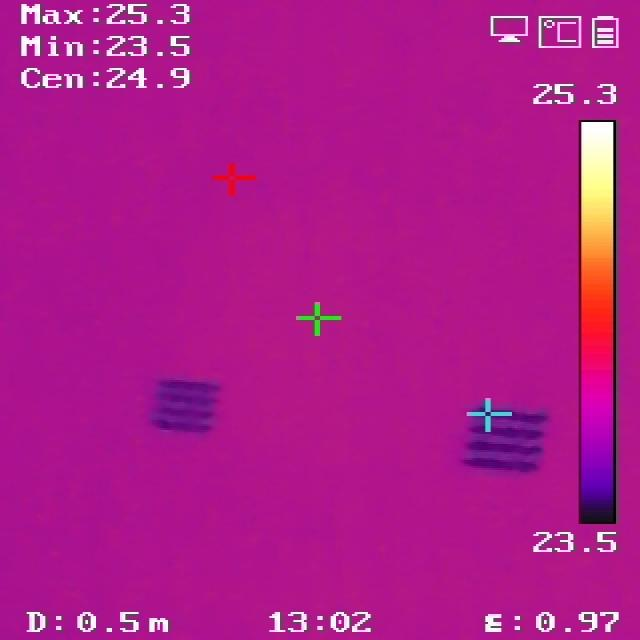Distinguishable 4-bar target: (458, 403, 550, 476)
threshold 4-bar target: (153, 376, 204, 427)
